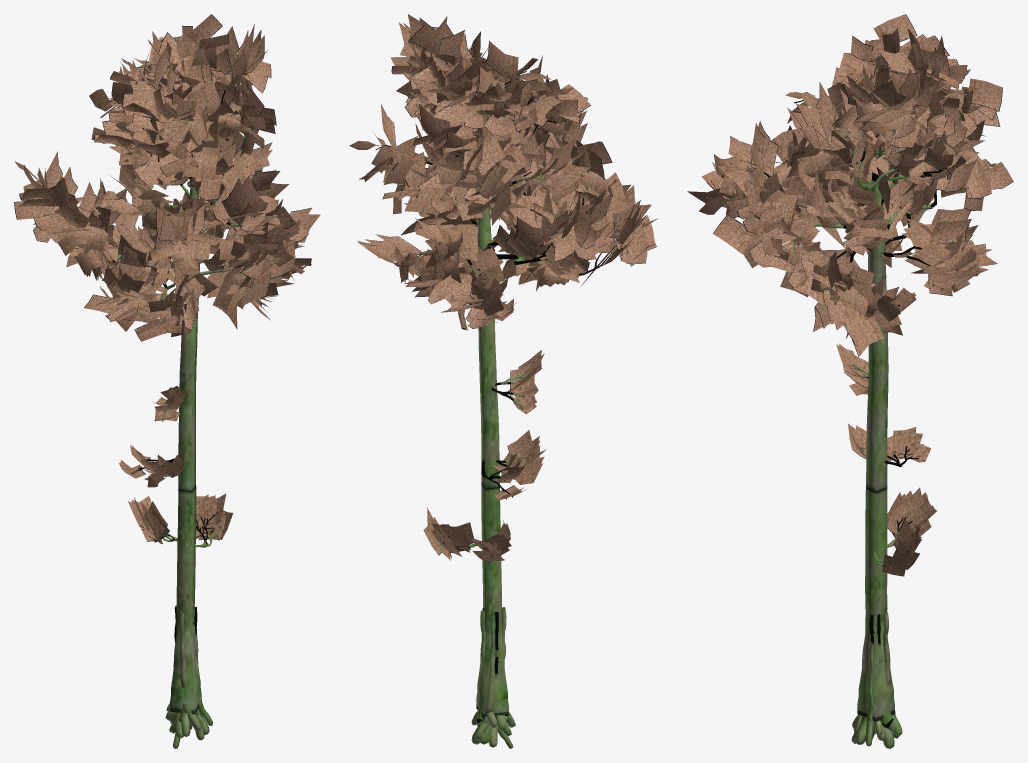
The model's file is Bark___1.obj.
3 renders of one model, left to right at view 1: azimuth 30°, elevation 25°; view 2: azimuth 150°, elevation 25°; view 3: azimuth 270°, elevation 25°, orthographic. The views are drawn at different scales.
Visible parts, largest first — view 1: Bark___1; view 2: Bark___1; view 3: Bark___1.
Boxes of the visible parts, <box> form: Bark___1: <box>14,14,320,748</box>; Bark___1: <box>349,14,657,748</box>; Bark___1: <box>687,14,1013,748</box>.
Bounding box in the file's own units: 13.9 × 36.81 × 14.98.
1 material, 1 textured.
